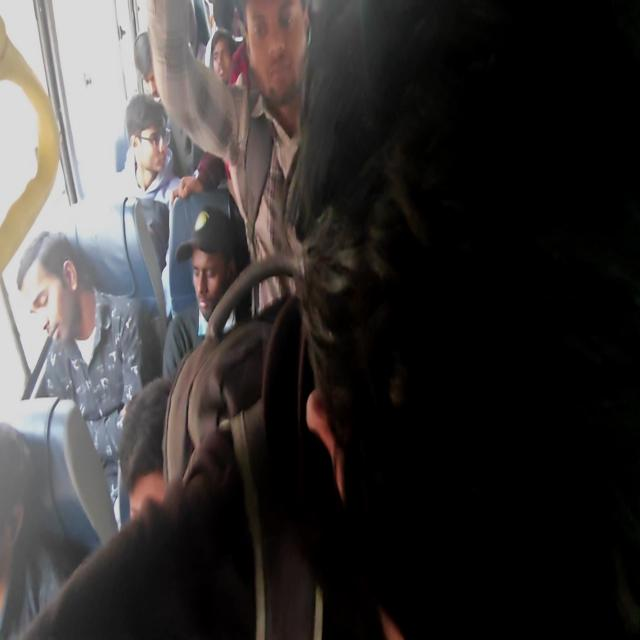person: (292, 1, 639, 637), (22, 294, 325, 638), (146, 0, 314, 320), (17, 230, 146, 526), (72, 92, 182, 314), (162, 204, 250, 381), (117, 376, 173, 526), (113, 92, 181, 212), (0, 421, 33, 633), (210, 28, 237, 85)
